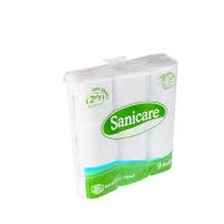tissue: (55, 44, 185, 207)
